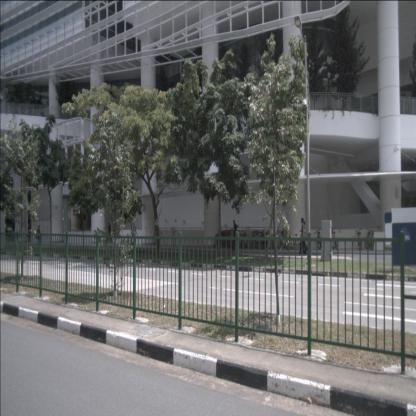human-pedestrian-adult: (297, 217, 305, 255), (302, 220, 308, 256), (131, 223, 138, 247), (232, 219, 237, 251), (35, 225, 40, 246), (107, 221, 111, 246)
vehicle-bicycle: (365, 229, 374, 251), (330, 227, 338, 251), (355, 228, 363, 251), (314, 226, 322, 249)
